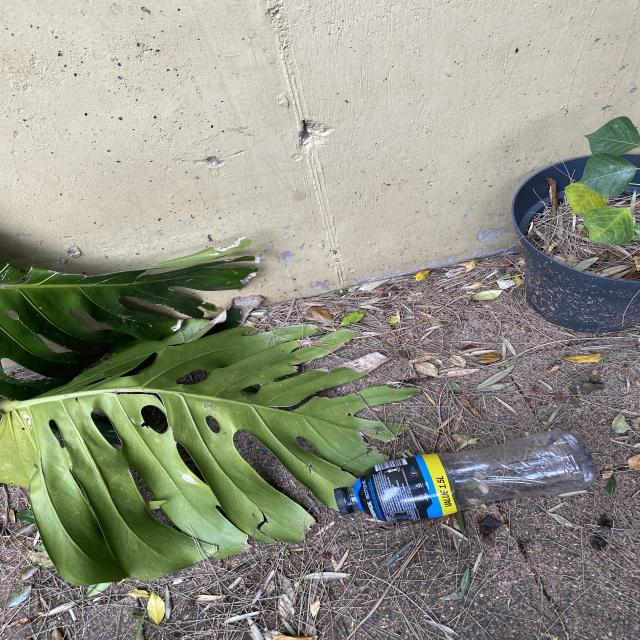bottle: (334, 430, 595, 523)
